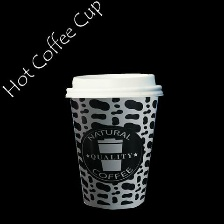paper_cup: (59, 66, 167, 213)
